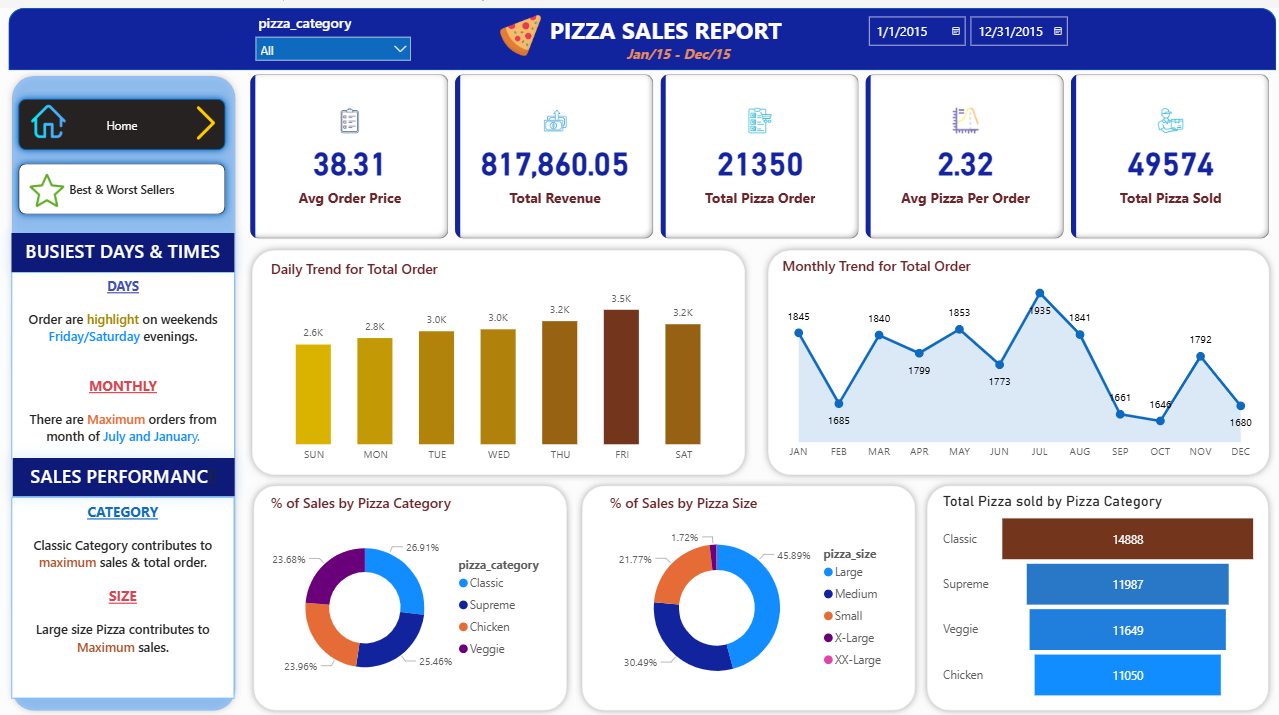

Layout of this report page (visuals, bound fields, positions):
{"tool":"powerbi","page":{"name":"Home","canvas":[1500,820],"ordinal":0},"visuals":[{"type":"cardVisual","fields":{"Data":["pizza_sales.avg_Order_Price","pizza_sales.Total Revenue","pizza_sales.Total_Order","pizza_sales.Avg_Pizza_Per_Order","pizza_sales.Total_sold"]},"box":[292.3,71.2,1190.4,200],"z":0},{"type":"shape","box":[18.4,0,1464.2,71.9],"z":1000},{"type":"textbox","box":[640,1,301.9,55.8],"z":2000},{"type":"textbox","box":[727.1,35.7,150,34.3],"z":3000},{"type":"image","box":[494.2,1.9,232.7,59.6],"z":4000},{"type":"shape","box":[292.3,271.2,584.6,275],"z":5000},{"type":"clusteredColumnChart","title":"Daily Trend for Total Order","fields":{"Category":["pizza_sales.order day"],"Y":["pizza_sales.Total_Order"]},"box":[317.3,288.5,536.5,244.2],"z":6000},{"type":"shape","box":[888.5,271.2,594.2,275],"z":7000},{"type":"areaChart","title":"Monthly Trend for Total Order","fields":{"Category":["pizza_sales.Order Month"],"Y":["pizza_sales.Total_Order"]},"box":[907.7,286.5,557.7,244.2],"z":8000},{"type":"shape","box":[294.2,544.2,376.9,275],"z":9000},{"type":"shape","box":[673.1,544.2,400,275],"z":10000},{"type":"shape","box":[1073.1,544.2,409.6,275],"z":11000},{"type":"donutChart","title":"% of Sales by Pizza Category","fields":{"Y":["pizza_sales.Total Revenue"],"Category":["pizza_sales.pizza_category"]},"box":[317.3,559.6,336.5,244.2],"z":12000},{"type":"donutChart","title":"% of Sales by Pizza Size","fields":{"Y":["pizza_sales.Total Revenue"],"Category":["pizza_sales.pizza_size"]},"box":[707.7,559.6,336.5,244.2],"z":13000},{"type":"shape","box":[15.4,71.2,273.1,748.1],"z":14000},{"type":"textbox","box":[22,260,257,46.2],"z":15000},{"type":"textbox","box":[23,565,257,232.7],"z":16000},{"type":"textbox","box":[23,305,257.7,216],"z":17000},{"type":"textbox","box":[24,520,256.3,44.3],"z":18000},{"type":"funnel","title":"Total Pizza sold by Pizza Category","fields":{"Category":["pizza_sales.pizza_category"],"Y":["pizza_sales.Total_sold"]},"box":[1092.3,559.6,373.1,244.2],"z":19000},{"type":"slicer","fields":{"Values":["pizza_sales.pizza_category"]},"box":[295.1,0,199.2,60.9],"z":20000},{"type":"slicer","fields":{"Values":["pizza_sales.order_date"]},"box":[999.5,0,278.5,66.4],"z":21000},{"type":"pageNavigator","box":[23.1,96.2,255.8,75],"z":22000},{"type":"pageNavigator","box":[23,171.2,255.8,75],"z":23000},{"type":"image","box":[221.3,107,50,50],"z":24000},{"type":"image","box":[40.6,105,50,50],"z":25000},{"type":"image","box":[38,185,50,50],"z":26000}]}

Visuals, with their boxes in screenshot pixels (x1, y1, x2, y2), scaled from the page's 1500x820 canvas onto the 1279x715 screenshot:
cardVisual - pizza_sales.avg_Order_Price x pizza_sales.Total Revenue: 249 62 1264 236
shape: 16 0 1264 63
textbox: 546 1 803 50
textbox: 620 31 748 61
image: 421 2 620 54
shape: 249 236 748 476
"Daily Trend for Total Order" clusteredColumnChart: 271 252 728 464
shape: 758 236 1264 476
"Monthly Trend for Total Order" areaChart: 774 250 1249 463
shape: 251 475 572 714
shape: 574 475 915 714
shape: 915 475 1264 714
"% of Sales by Pizza Category" donutChart: 271 488 557 701
"% of Sales by Pizza Size" donutChart: 603 488 890 701
shape: 13 62 246 714
textbox: 19 227 238 267
textbox: 20 493 239 696
textbox: 20 266 239 454
textbox: 20 453 239 492
"Total Pizza sold by Pizza Category" funnel: 931 488 1249 701
slicer - pizza_sales.pizza_category: 252 0 421 53
slicer - pizza_sales.order_date: 852 0 1090 58
pageNavigator: 20 84 238 149
pageNavigator: 20 149 238 215
image: 189 93 231 137
image: 35 92 77 135
image: 32 161 75 205
